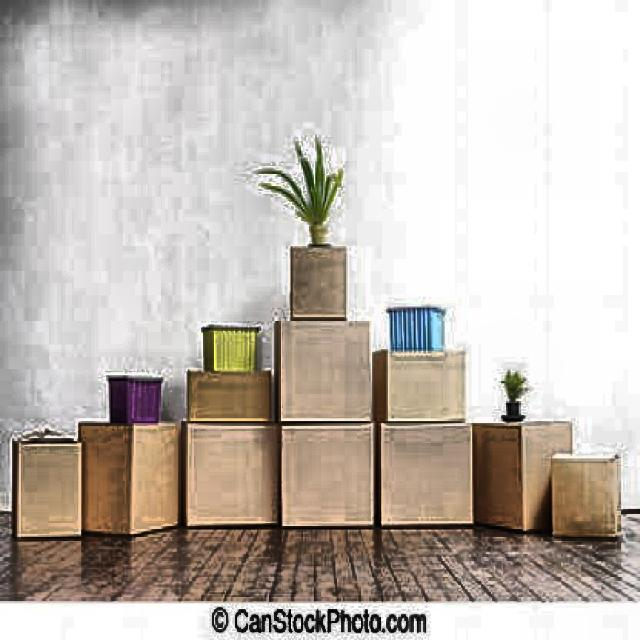Cardbox: (56, 404, 187, 534), (175, 418, 294, 533), (374, 410, 484, 534), (278, 419, 382, 544), (468, 421, 578, 536), (272, 313, 381, 421), (0, 429, 90, 535), (370, 341, 470, 428), (182, 364, 288, 427), (288, 246, 348, 320)
